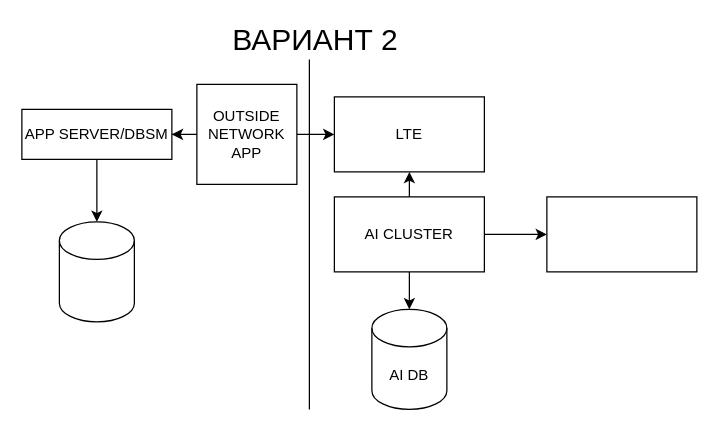
This 719x433 diagram has some shape labels left out. The centre of each missing label's shape, as x and y in pixels:
APP DB: the point at 96,271
DEVICE: the point at 621,234
